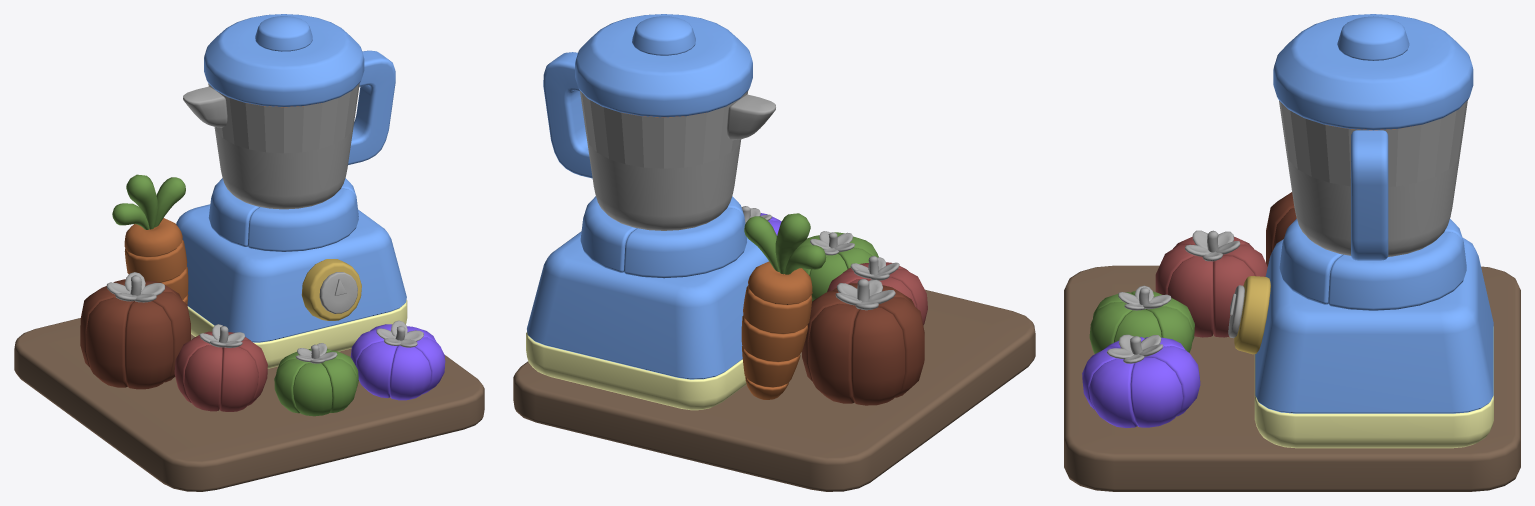
File: Blender.fbx
3 views of the same model, side by side, from view 1: azimuth 30°, elevation 25°; view 2: azimuth 150°, elevation 25°; view 3: azimuth 270°, elevation 25° (orthographic). The views are drawn at different scales.
Parts seen in each view (by area): view 1: S_Blender, M_Blender6, M_Blender29, M_Blender31, D1_Blender_13, M_Blender15, D1_Blender_9, M_Blender30, M_Blender28, M_Blender16, D1_Blender_14, D1_Blender_8 (+6 smaller); view 2: S_Blender, M_Blender6, M_Blender28, D1_Blender_12, M_Blender16, D1_Blender_10, M_Blender17, D1_Blender_11, D1_Blender_7, M_Blender30, M_Blender29, D_Blender_6 (+4 smaller); view 3: S_Blender, M_Blender31, M_Blender17, M_Blender29, D1_Blender_11, D1_Blender_7, M_Blender30, D1_Blender_8, D1_Blender_14, M_Blender15, D_Blender_5, M_Blender6 (+3 smaller).
Part boxes in pixels (x1,y1,x2,y2): S_Blender: (14,14,484,491); M_Blender6: (80,279,190,389); M_Blender29: (174,331,267,411); M_Blender31: (350,324,445,400); D1_Blender_13: (223,138,318,207); M_Blender15: (248,188,358,251); D1_Blender_9: (217,91,322,153); M_Blender30: (274,348,358,416); M_Blender28: (124,218,188,305); M_Blender16: (208,178,259,246); D1_Blender_14: (313,124,353,203); D1_Blender_8: (319,83,359,149); S_Blender: (513,14,1035,491); M_Blender6: (802,283,924,405); M_Blender28: (741,261,812,399); D1_Blender_12: (625,152,731,228); M_Blender16: (624,208,746,278); D1_Blender_10: (621,100,737,168); M_Blender17: (580,196,636,272); D1_Blender_11: (586,137,631,224); D1_Blender_7: (580,91,625,163); M_Blender30: (797,232,878,301); M_Blender29: (827,262,927,325); D_Blender_6: (835,279,895,310); S_Blender: (1064,14,1520,491); M_Blender31: (1082,337,1200,427); M_Blender17: (1328,232,1466,310); M_Blender29: (1155,236,1267,337); D1_Blender_11: (1388,151,1460,254); D1_Blender_7: (1378,100,1467,186); M_Blender30: (1089,291,1194,353); D1_Blender_8: (1279,100,1368,186); D1_Blender_14: (1286,152,1350,253); M_Blender15: (1279,218,1342,304); D_Blender_5: (1185,230,1240,261); M_Blender6: (1266,192,1296,266).
Bounding box in the file's own units: 428 × 414 × 412.
